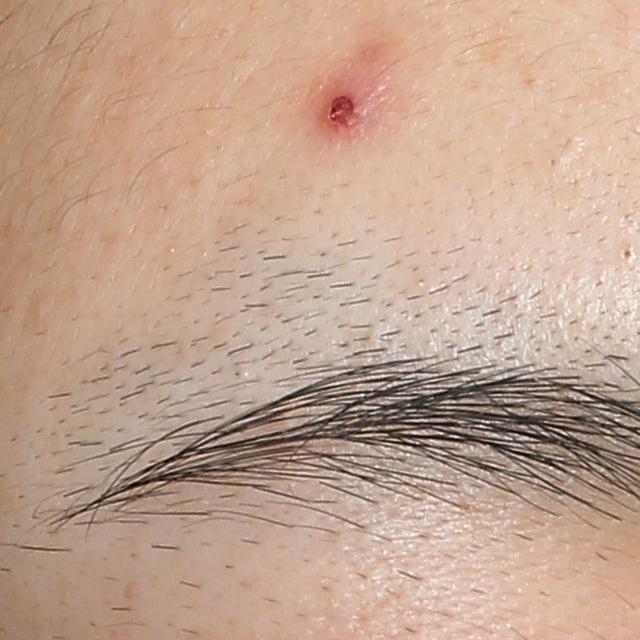papule: (316, 74, 388, 142)
